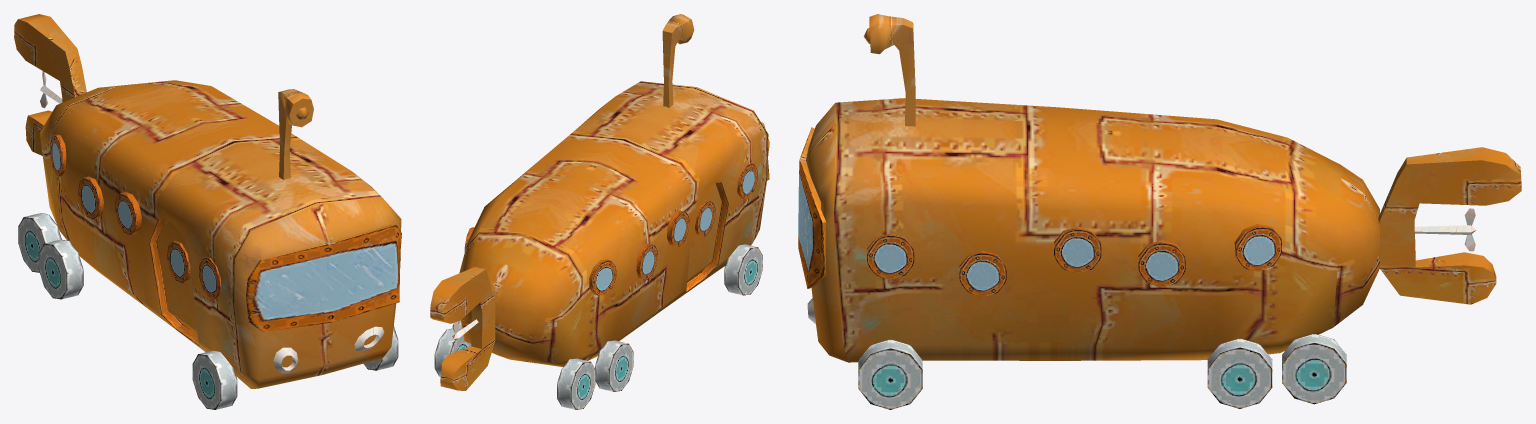
Rendered from bus_from_spongebob_squarepants.glb.
The picture shows the model from 3 angles, left to right: view 1: azimuth 30°, elevation 25°; view 2: azimuth 150°, elevation 25°; view 3: azimuth 270°, elevation 25°; orthographic projection. The views are drawn at different scales.
Parts seen in each view (by area): view 1: Object_4; view 2: Object_4; view 3: Object_4.
Part boxes in pixels (bbox=[...]): Object_4: bbox=[14, 14, 401, 409]; Object_4: bbox=[430, 14, 769, 409]; Object_4: bbox=[798, 14, 1521, 409].
Bounding box in the file's own units: 0.068 × 0.108 × 0.2055.
Materials: 1 (1 with a texture image).
